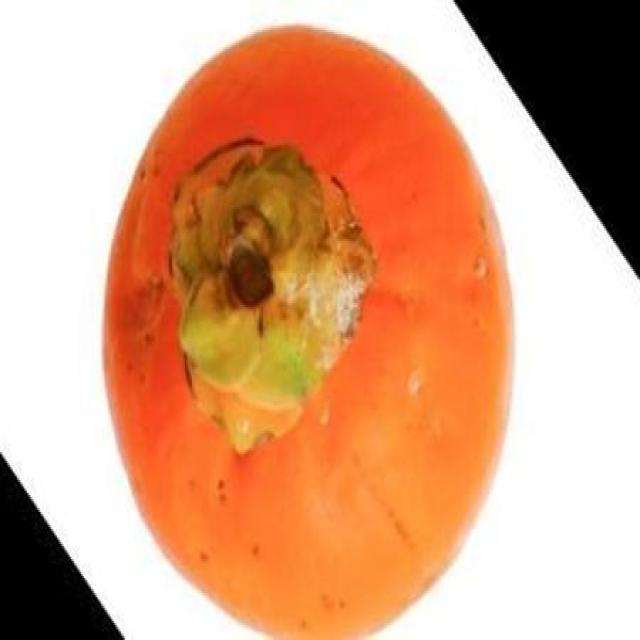good: (104, 28, 515, 638)
